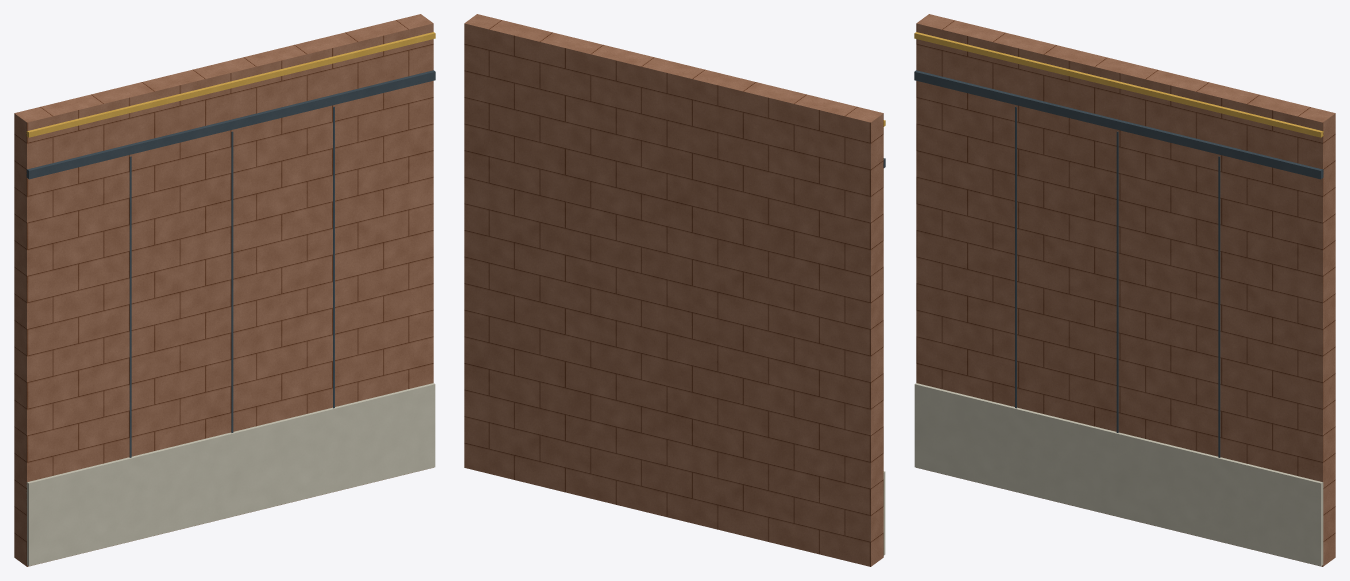
The model's file is PZ_GCR_04_Facade_Solid_4m.glb.
3 views of the same model, side by side, from view 1: azimuth 30°, elevation 25°; view 2: azimuth 150°, elevation 25°; view 3: azimuth 330°, elevation 25° (orthographic).
Visible parts, largest first — view 1: Facade_Solid_4m__Solid_Brick_Wall, Facade_Solid_4m__Solid_Brick_Dado, Facade_Solid_4m__Solid_Coping_Trim, Facade_Solid_4m__Solid_Facade_Accent_Band, Facade_Solid_4m__Faux_Recessed_Joint; view 2: Facade_Solid_4m__Solid_Brick_Wall; view 3: Facade_Solid_4m__Solid_Brick_Wall, Facade_Solid_4m__Solid_Brick_Dado, Facade_Solid_4m__Solid_Coping_Trim, Facade_Solid_4m__Solid_Facade_Accent_Band, Facade_Solid_4m__Faux_Recessed_Joint.
Boxes of the visible parts, left/top/right/bottom form: Facade_Solid_4m__Solid_Brick_Wall: left=14, top=14, right=433, bottom=566; Facade_Solid_4m__Solid_Brick_Dado: left=26, top=383, right=435, bottom=566; Facade_Solid_4m__Solid_Coping_Trim: left=26, top=70, right=435, bottom=179; Facade_Solid_4m__Solid_Facade_Accent_Band: left=26, top=32, right=435, bottom=137; Facade_Solid_4m__Faux_Recessed_Joint: left=129, top=106, right=334, bottom=457; Facade_Solid_4m__Solid_Brick_Wall: left=464, top=14, right=883, bottom=566; Facade_Solid_4m__Solid_Brick_Wall: left=916, top=14, right=1335, bottom=566; Facade_Solid_4m__Solid_Brick_Dado: left=914, top=383, right=1323, bottom=566; Facade_Solid_4m__Solid_Coping_Trim: left=914, top=70, right=1323, bottom=179; Facade_Solid_4m__Solid_Facade_Accent_Band: left=914, top=32, right=1323, bottom=137; Facade_Solid_4m__Faux_Recessed_Joint: left=1015, top=106, right=1220, bottom=457.
Size of the model in its own units: 4 by 4.18 by 0.254.
Materials: 4 (4 with a texture image).
